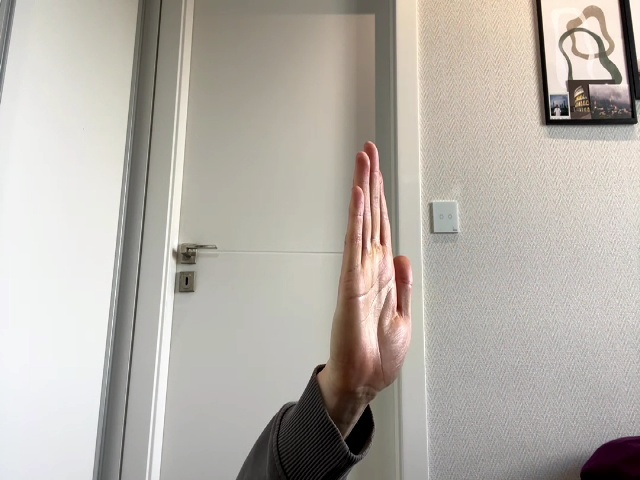SZ: (330, 141, 413, 407)
